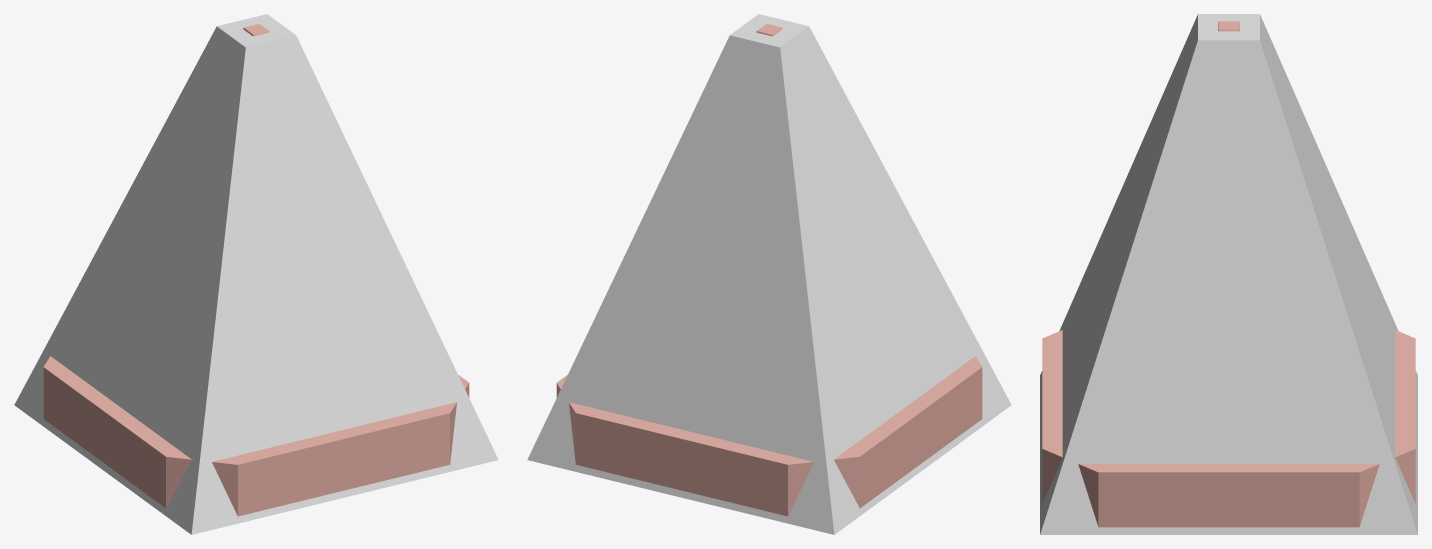
Rendered from RoadBlock03_B1_1_01.FBX.
3 renders of one model, left to right at view 1: azimuth 30°, elevation 25°; view 2: azimuth 150°, elevation 25°; view 3: azimuth 270°, elevation 25°, orthographic. The views are drawn at different scales.
Visible parts, largest first — view 1: RoadBlock03_B1_Damage_1_01, RoadBlock03_B1_Live_1_01; view 2: RoadBlock03_B1_Damage_1_01, RoadBlock03_B1_Live_1_01; view 3: RoadBlock03_B1_Damage_1_01, RoadBlock03_B1_Live_1_01.
Boxes of the visible parts, x1,y1,x2,y2 form: RoadBlock03_B1_Damage_1_01: (14,14,498,534); RoadBlock03_B1_Live_1_01: (43,24,469,516); RoadBlock03_B1_Damage_1_01: (527,14,1011,534); RoadBlock03_B1_Live_1_01: (556,24,982,516); RoadBlock03_B1_Damage_1_01: (1040,14,1417,534); RoadBlock03_B1_Live_1_01: (1042,21,1415,527).
Size of the model in its own units: 0.4 by 0.5018 by 0.4.
